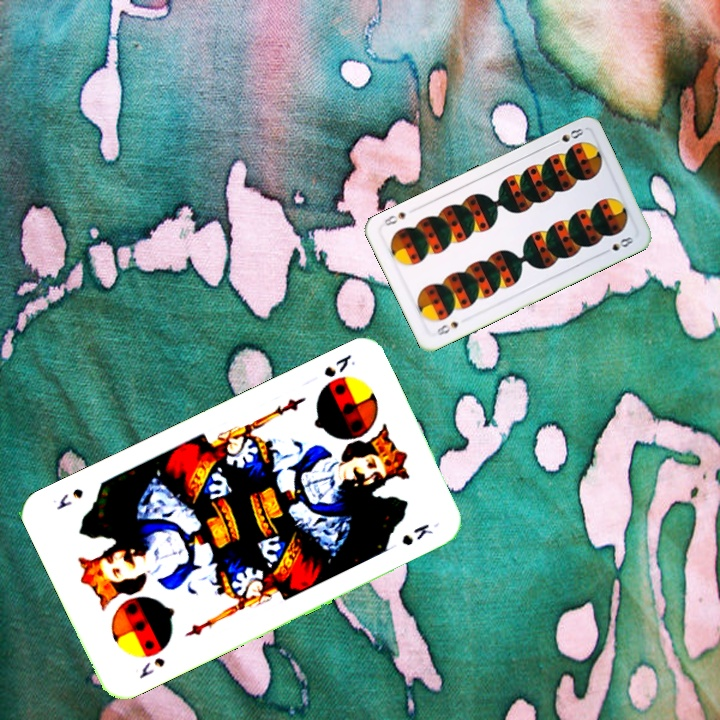S8: (547, 124, 586, 148), (431, 317, 461, 339)
SK: (320, 350, 358, 380), (135, 653, 168, 681)
